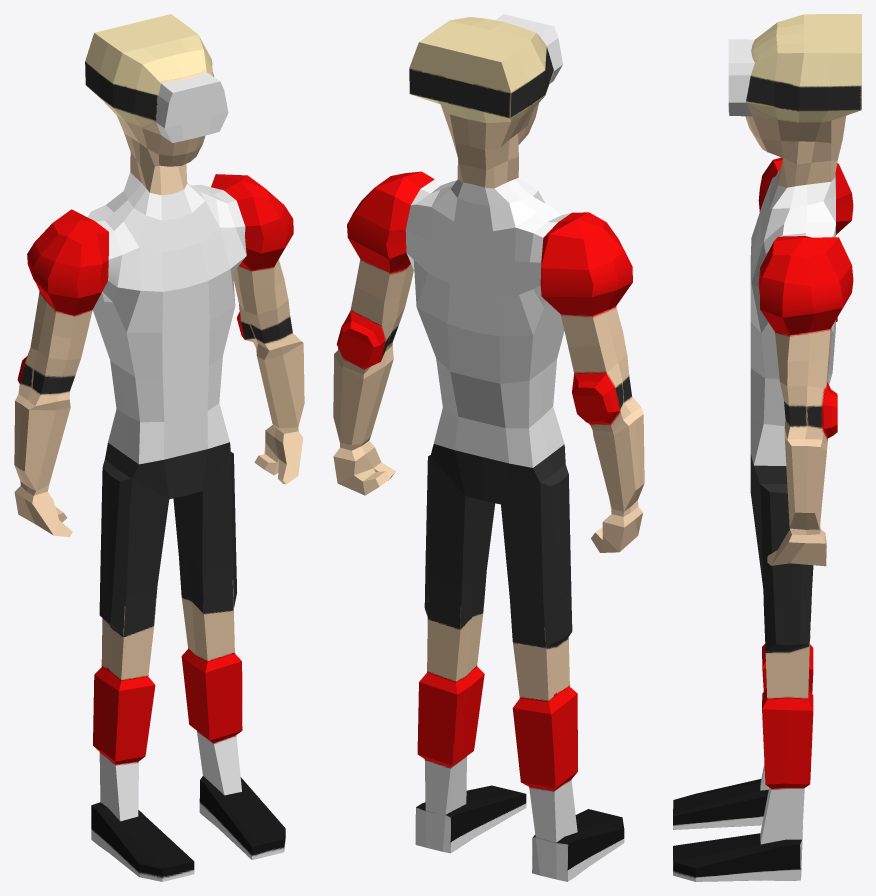
Rendered from Scale_Reference_v2.fbx.
The picture shows the model from 3 angles, left to right: view 1: azimuth 30°, elevation 25°; view 2: azimuth 150°, elevation 25°; view 3: azimuth 270°, elevation 25°; orthographic projection. The views are drawn at different scales.
Parts seen in each view (by area): view 1: Le_boi; view 2: Le_boi; view 3: Le_boi.
Boxes of the visible parts, bbox=[...] form: Le_boi: bbox=[14, 14, 304, 881]; Le_boi: bbox=[333, 14, 644, 881]; Le_boi: bbox=[673, 14, 861, 881].
Bounding box in the file's own units: 68.7 × 181 × 38.25.
